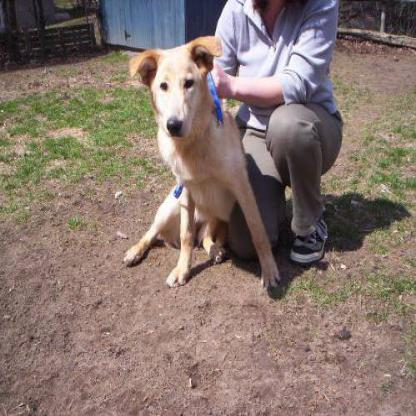dog: (110, 33, 290, 305)
